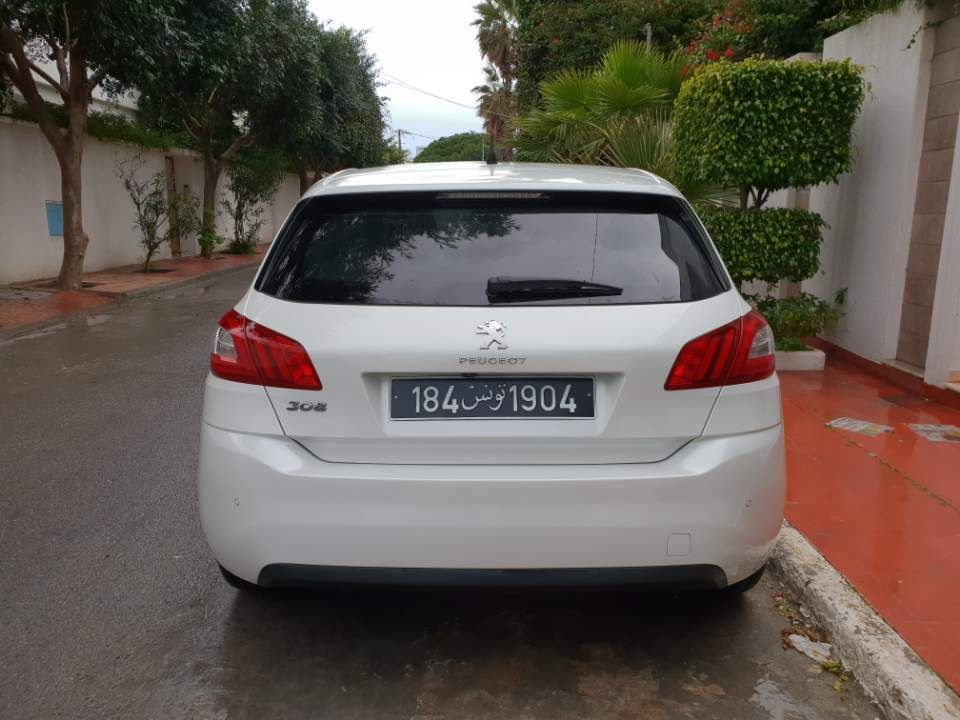LP: (386, 375, 598, 422)
